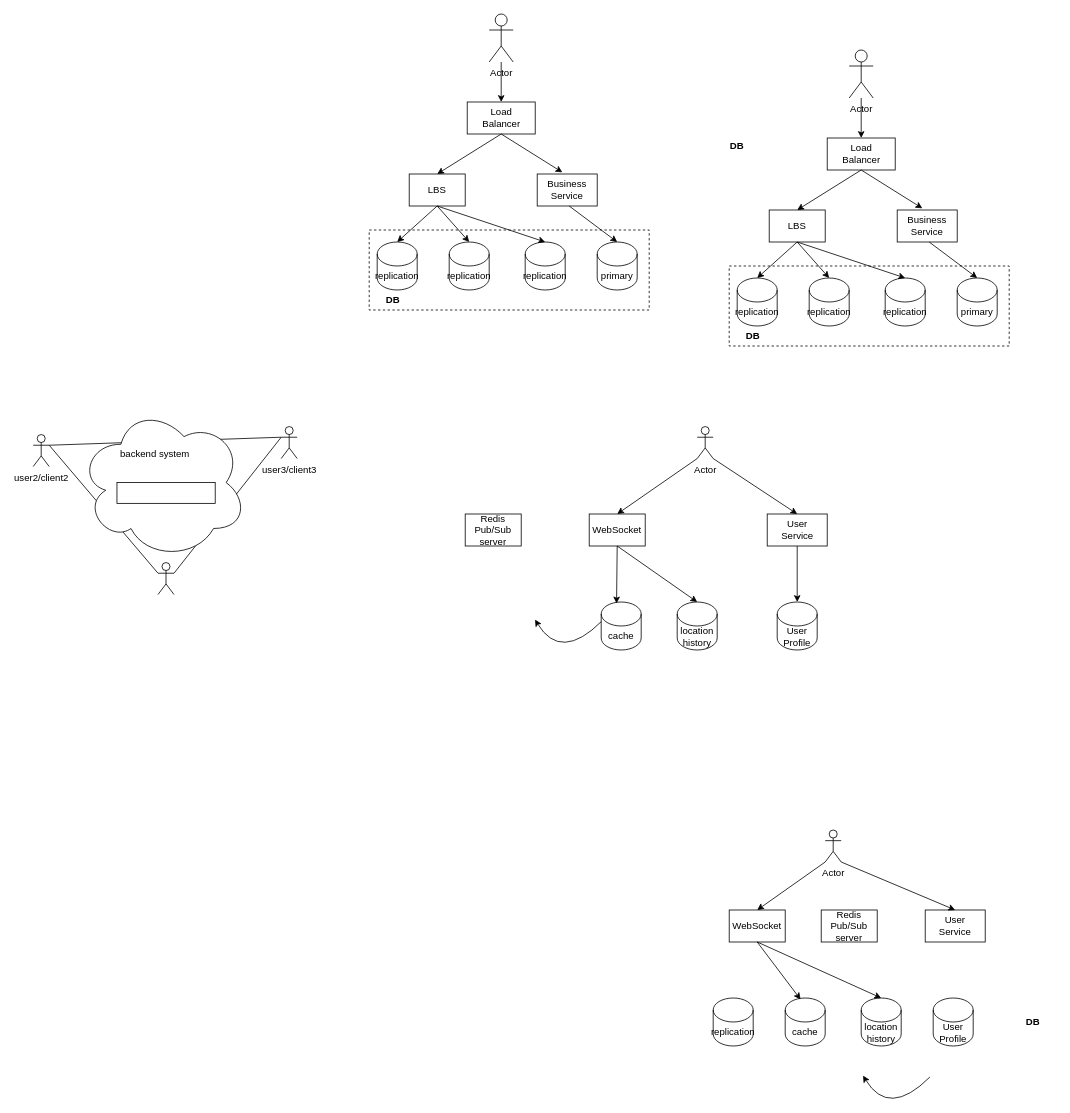
This 1070x1113 diagram has some shape labels left out. Here are the shapes that lost their labels. From the top down, the centre of each, then its label:
At (x=165, y=492): "websockets/DB, etc".
At (x=165, y=578): "user1/client1".
